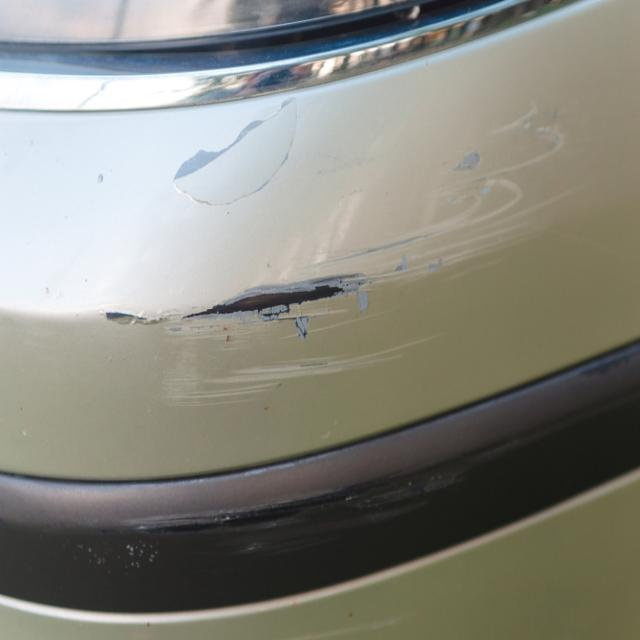scratch: (111, 94, 573, 408), (115, 441, 489, 542)
